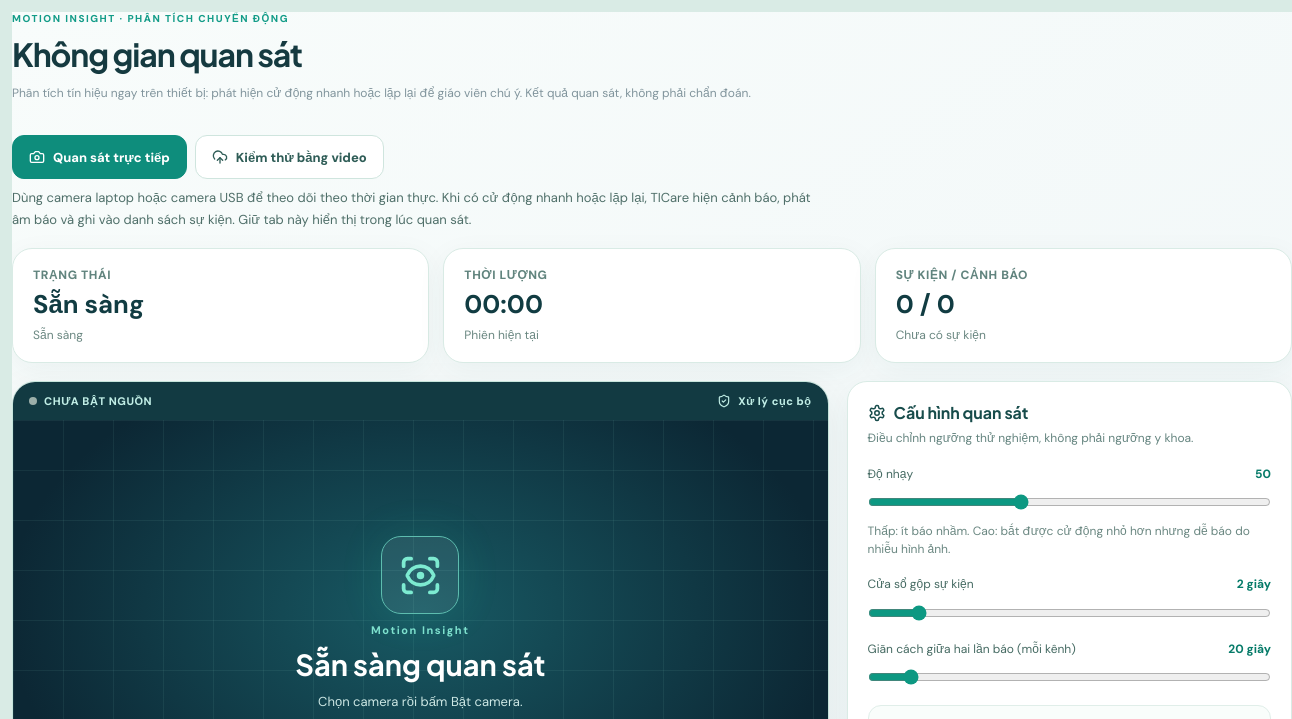
Test: Motion: video test mode + real alert › shows the purpose of video mode and, on a 4 Hz wrist shake, raises a role=alert banner and lists the event
This screenshot has width=1292, height=719.
Later steps or results of the test are not shown.
Click the tab "Kiểm thử bằng video" at (289, 157), box [195,135,384,179]
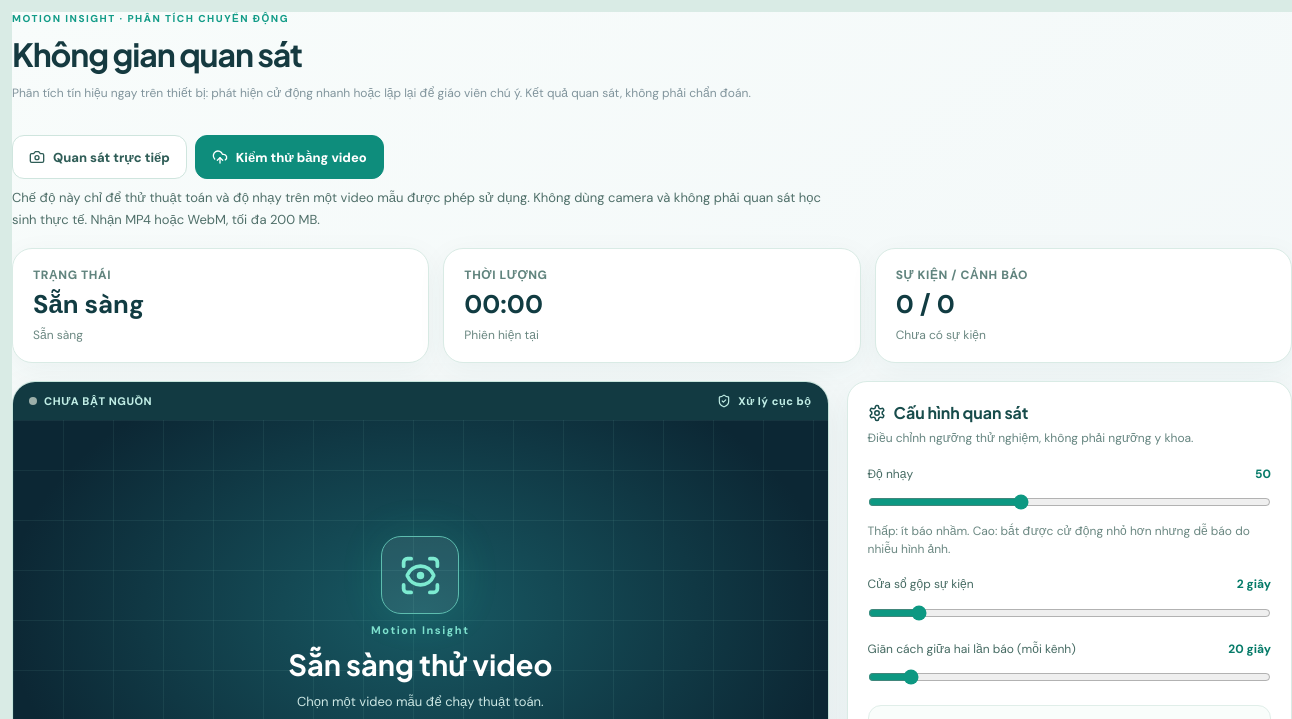
Check: the text "thử thuật toán" is shown, box [12,189,821,228]
